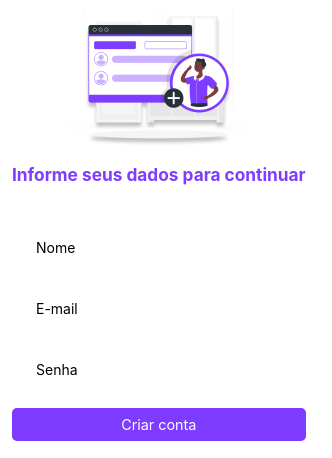
should validate email format
The width and height of the screenshot is (332, 458).
In the field with placeholder "E-mail": (163, 308) 36,286 -> 290,331, type "ddd"
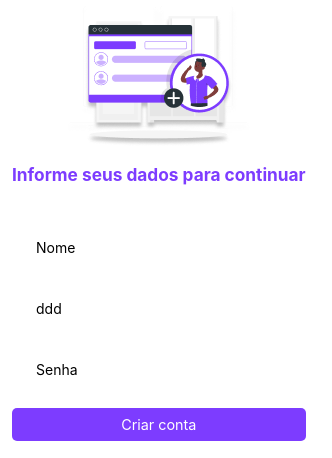
Click the text "Criar conta": (159, 424) 121,416 -> 196,433
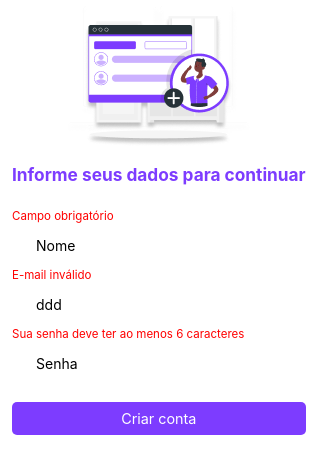
Expected: the text with test id "email-input-error" reads "E-mail inválido", 12,268 -> 91,282
